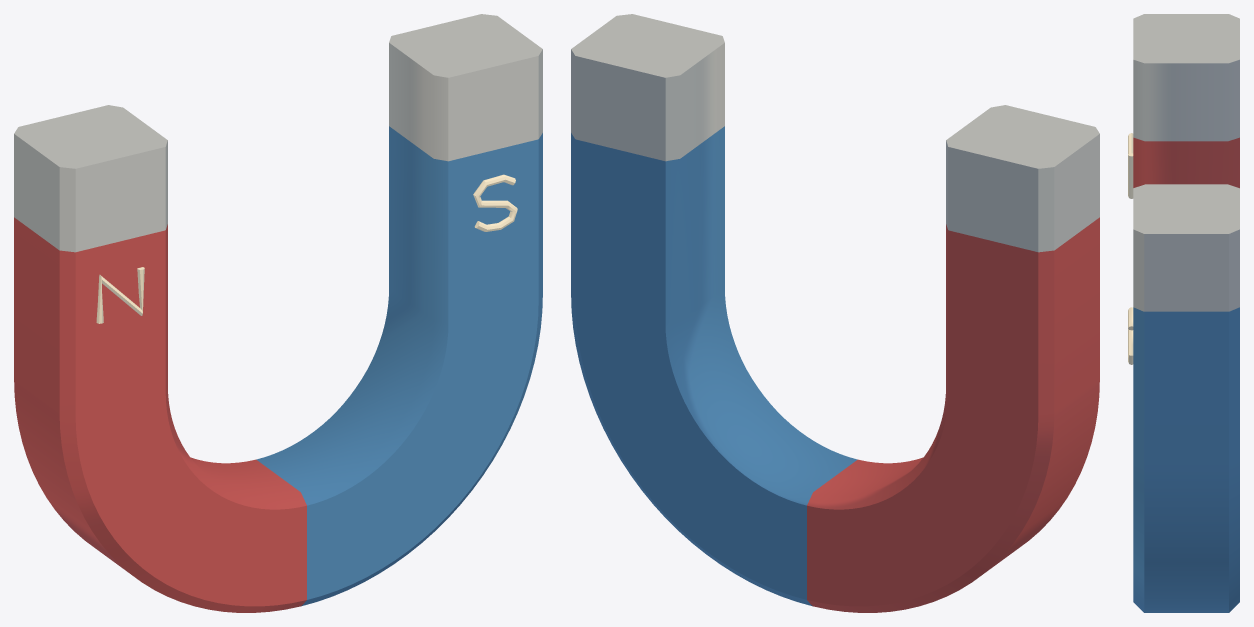
3 renders of one model, left to right at view 1: azimuth 30°, elevation 25°; view 2: azimuth 150°, elevation 25°; view 3: azimuth 270°, elevation 25°, orthographic. The views are drawn at different scales.
Visible parts, largest first — view 1: Asset_magnet; view 2: Asset_magnet; view 3: Asset_magnet.
Boxes of the visible parts, <box> form: Asset_magnet: <box>14,14,542,612</box>; Asset_magnet: <box>571,14,1099,612</box>; Asset_magnet: <box>1128,14,1239,612</box>.
Size of the model in its own units: 4.2 by 4.14 by 0.903.
Materials: 1 (1 with a texture image).
